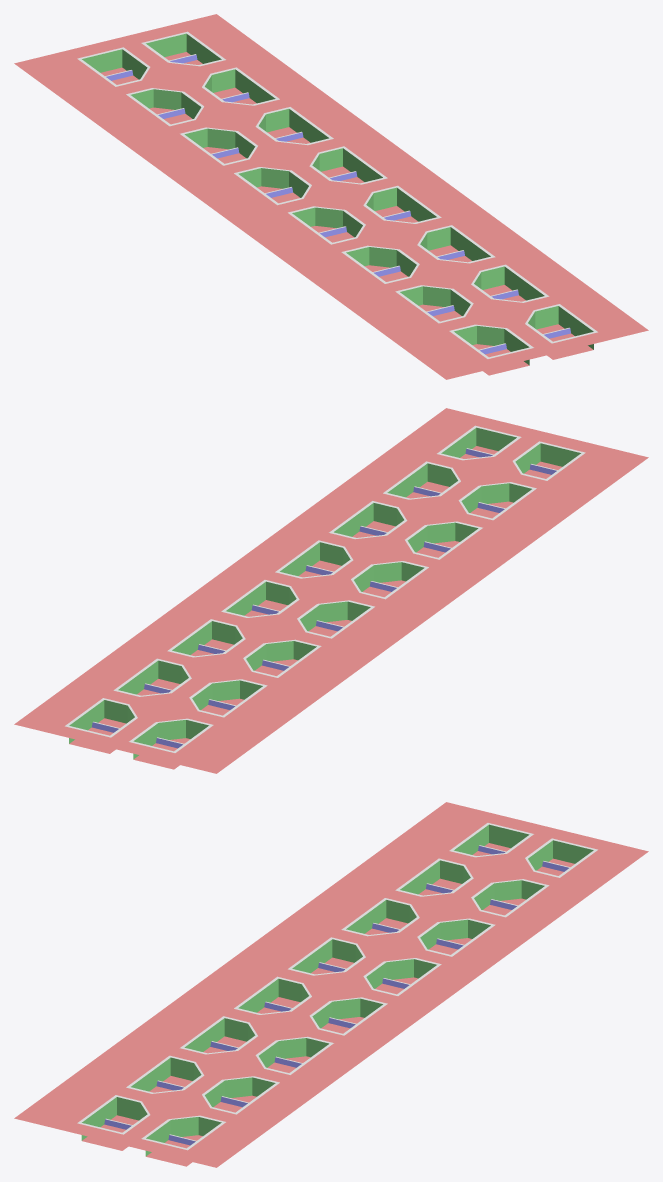
File: SSQ_dungeon_S__SSQ_Room01_Btm.gltf
3 views of the same model, one above another, from view 1: azimuth 30°, elevation 25°; view 2: azimuth 150°, elevation 25°; view 3: azimuth 330°, elevation 25° (orthographic).
Parts seen in each view (by area): view 1: SSQ_Room01_Btm; view 2: SSQ_Room01_Btm; view 3: SSQ_Room01_Btm.
Part boxes in pixels (left/top/right/bottom): SSQ_Room01_Btm: left=14, top=14, right=648, bottom=379; SSQ_Room01_Btm: left=14, top=408, right=648, bottom=773; SSQ_Room01_Btm: left=14, top=802, right=648, bottom=1167.
Size of the model in its own units: 5.56 by 0.48 by 20.55.
